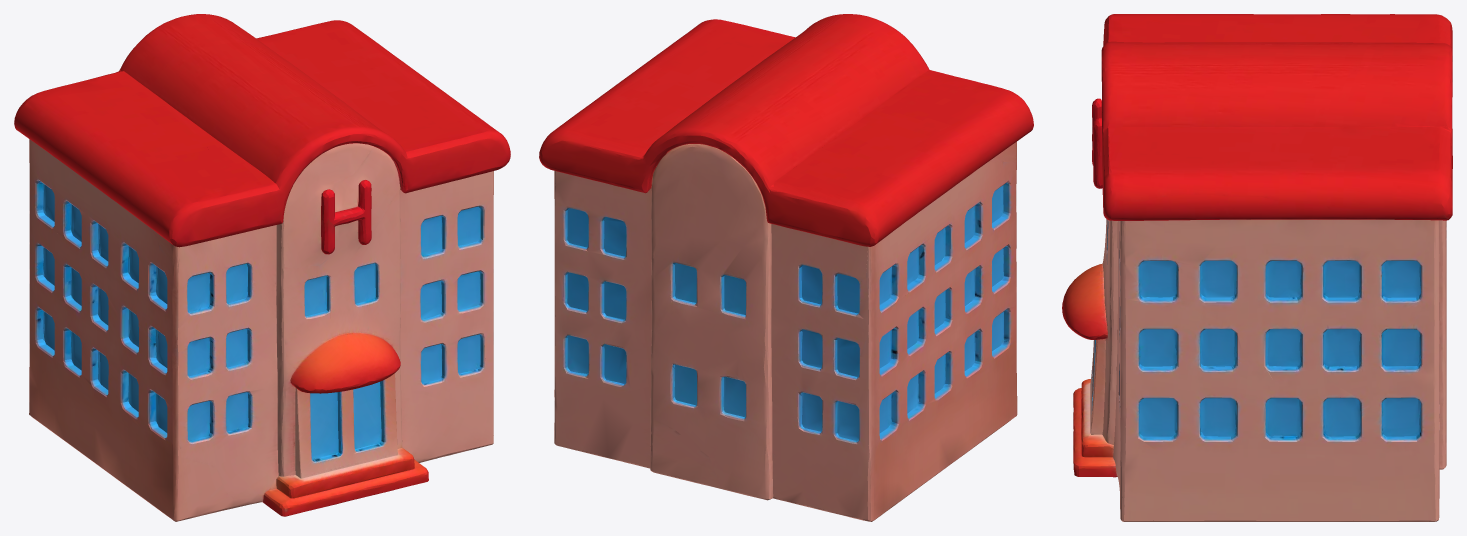
File: hotel.glb
3 views of the same model, side by side, from view 1: azimuth 30°, elevation 25°; view 2: azimuth 150°, elevation 25°; view 3: azimuth 270°, elevation 25° (orthographic). The views are drawn at different scales.
Visible parts, largest first — view 1: model; view 2: model; view 3: model.
Part boxes in pixels (left/top/right/bottom): model: left=14, top=14, right=510, bottom=521; model: left=539, top=14, right=1033, bottom=521; model: left=1062, top=14, right=1452, bottom=521.
Size of the model in its own units: 0.9954 by 1 by 0.9148.
Materials: 1 (1 with a texture image).
